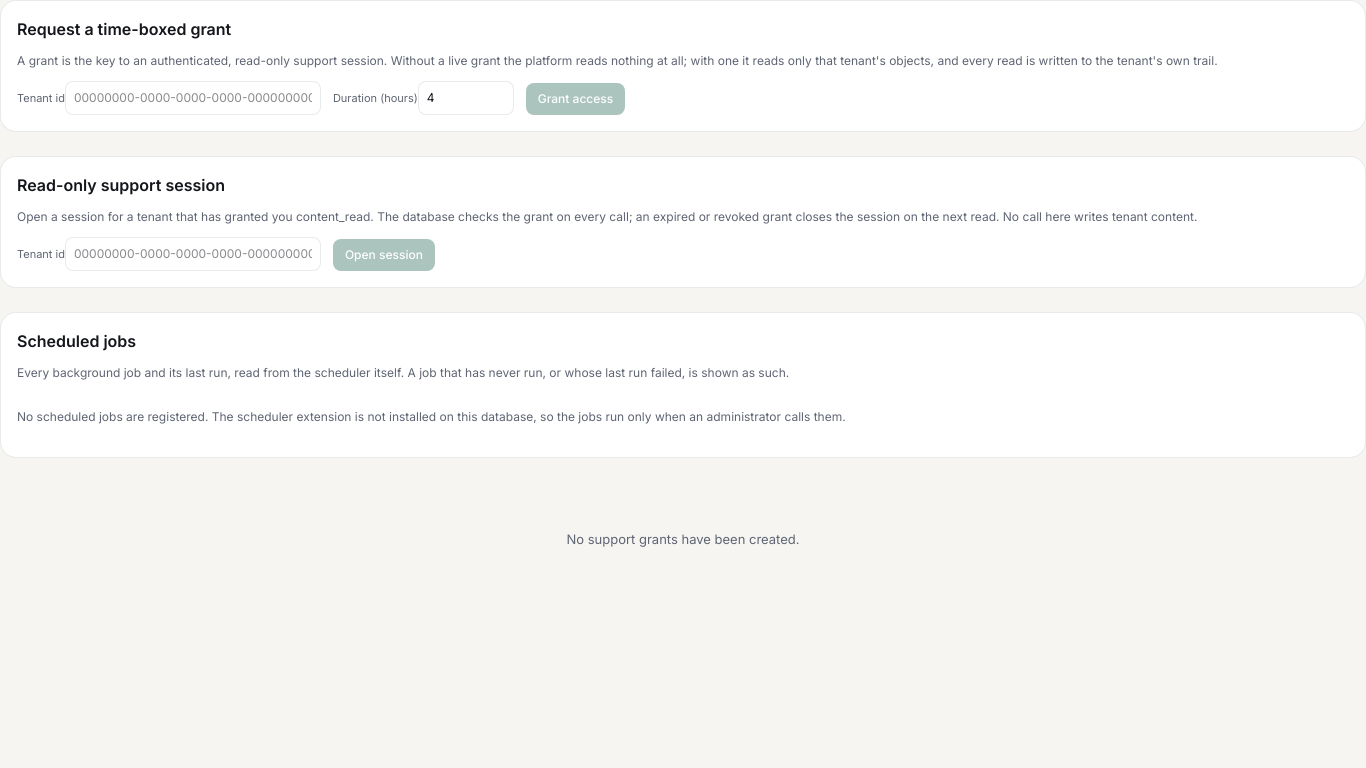
it: SA-02 support session (C2.9) › lists the granted org engagements and reads one, showing the trail
Expected: the element with test id "superadmin-support-session" is shown, [0,156,1365,288]
Step 1. Type "a0000000-0000-0000-0000-000000000001" into the field with test id "superadmin-support-session-org" → (193, 254), box [65,237,321,271]
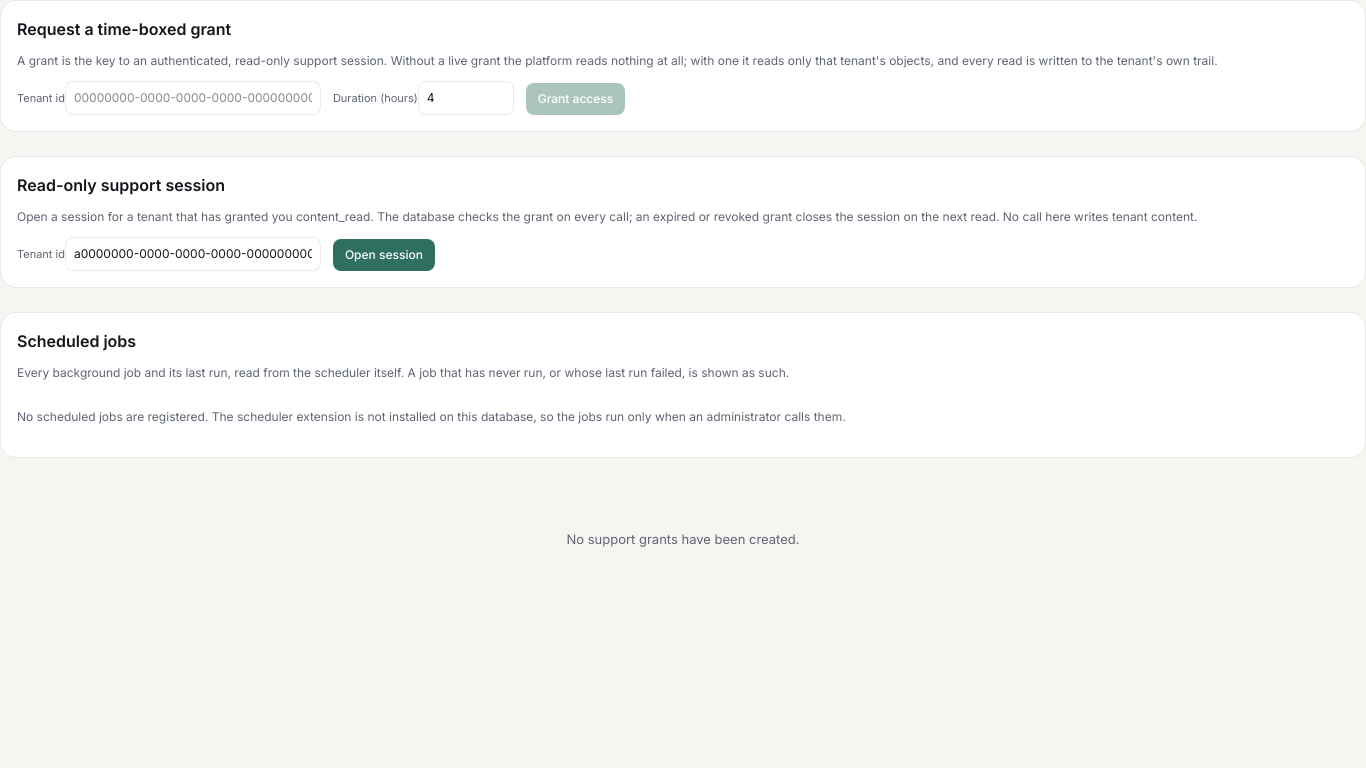
Step 2. Click the button with test id "superadmin-support-session-open" → click(384, 255), box [333,239,435,271]
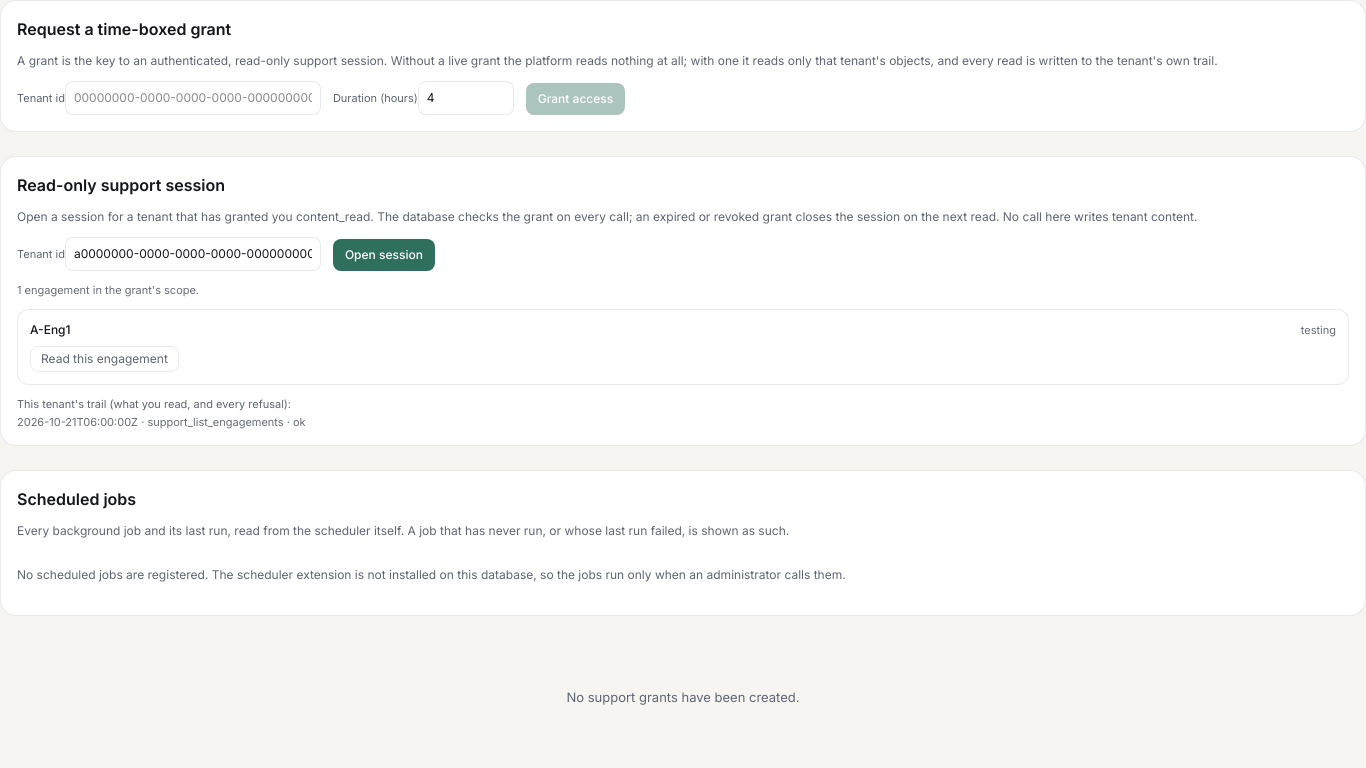
Now the list item with test id "support-engagement-50000000-0000-0000-0000-0000000000a1" is shown, box [17,309,1349,385]
Now the element with test id "superadmin-support-session-trail" is shown, box [17,397,306,429]
Step 3. Click the button with test id "support-read-50000000-0000-0000-0000-0000000000a1" → click(104, 359), box [30,346,179,372]
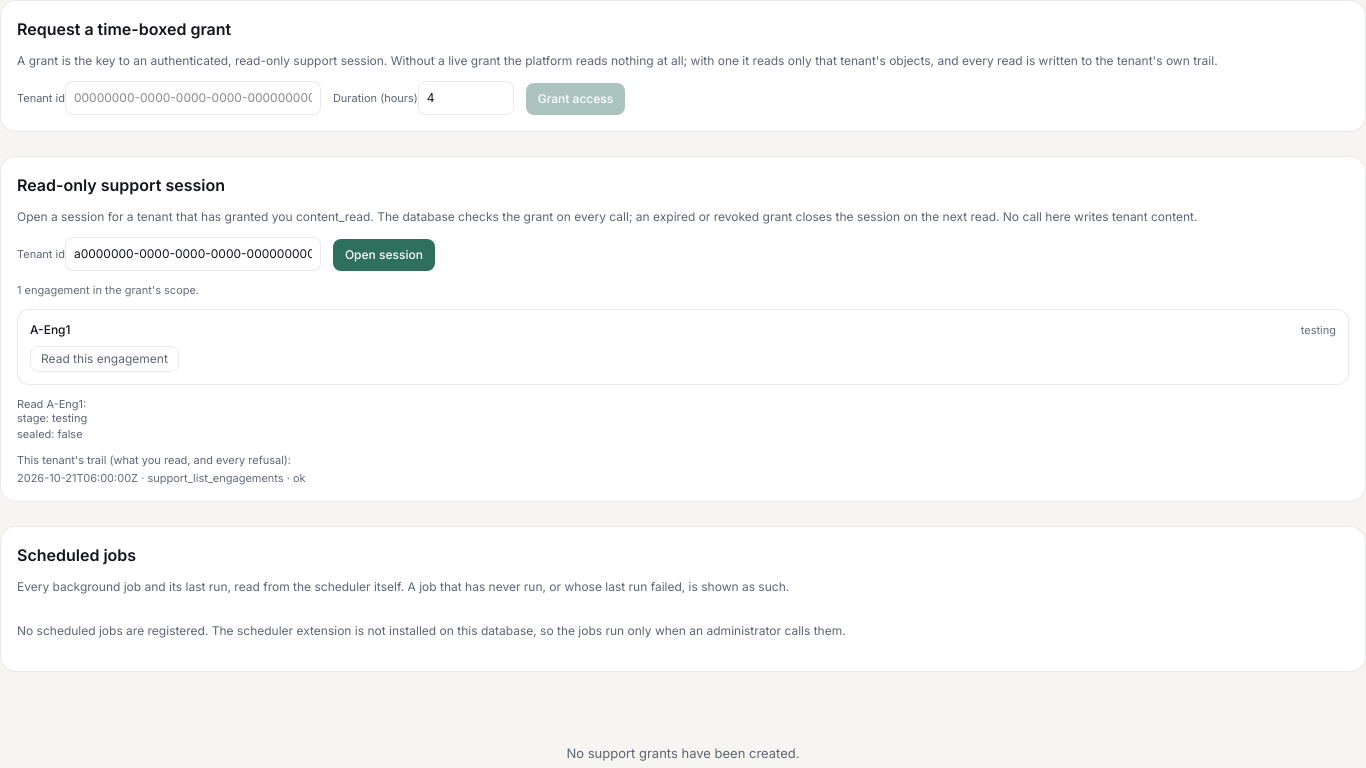
Now the element with test id "superadmin-support-session-read-result" shows "A-Eng1", box [46,397,83,411]
